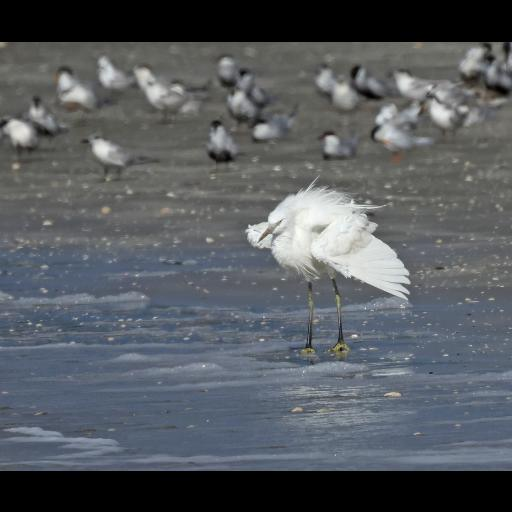chinese_egret: (246, 176, 412, 356)
